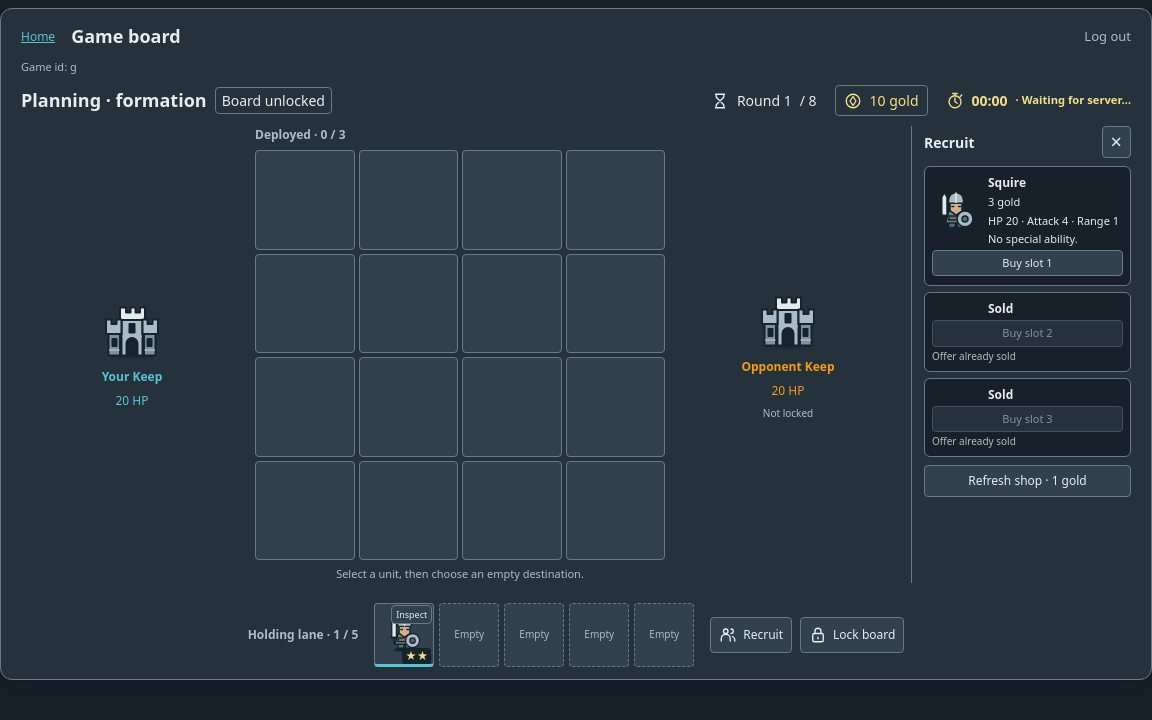
mouse hover opens the popup and selection closes it
The width and height of the screenshot is (1152, 720).
Hover over the element showing "★★ Inspect" at coordinates (404, 634), box [374,602,434,666]
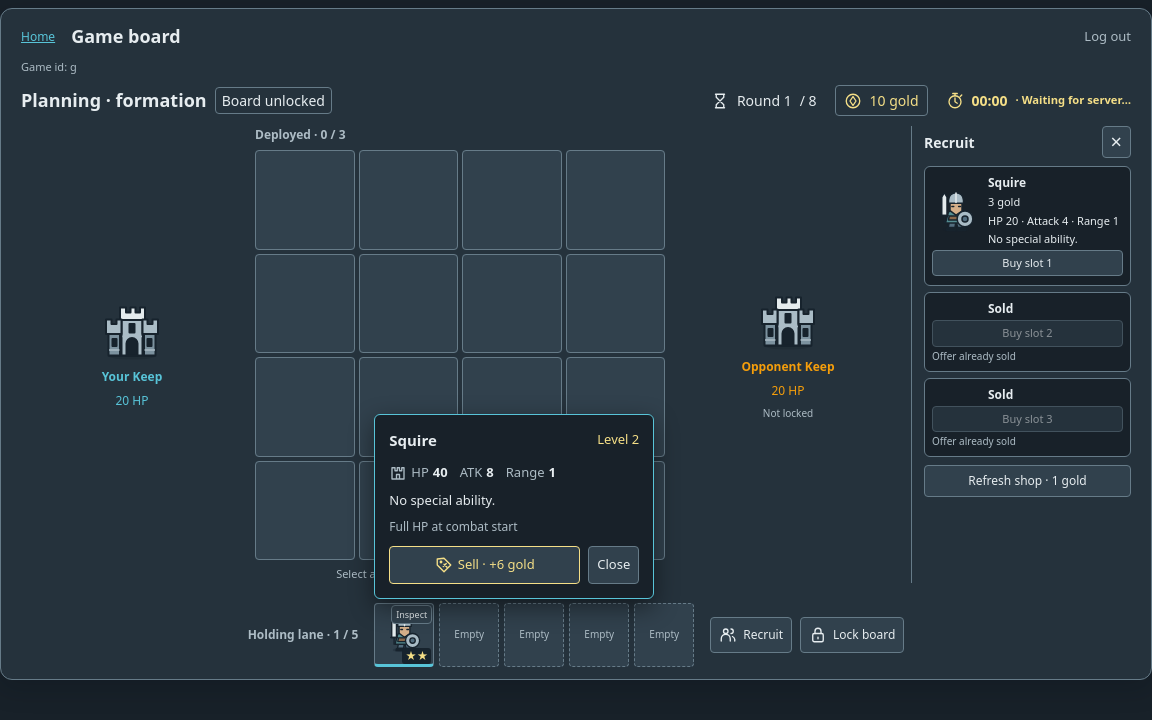
Expected: the dialog is shown, [374,414,654,598]
Click the button named "Select Squire u1" at coordinates (404, 634), box [374,602,434,666]
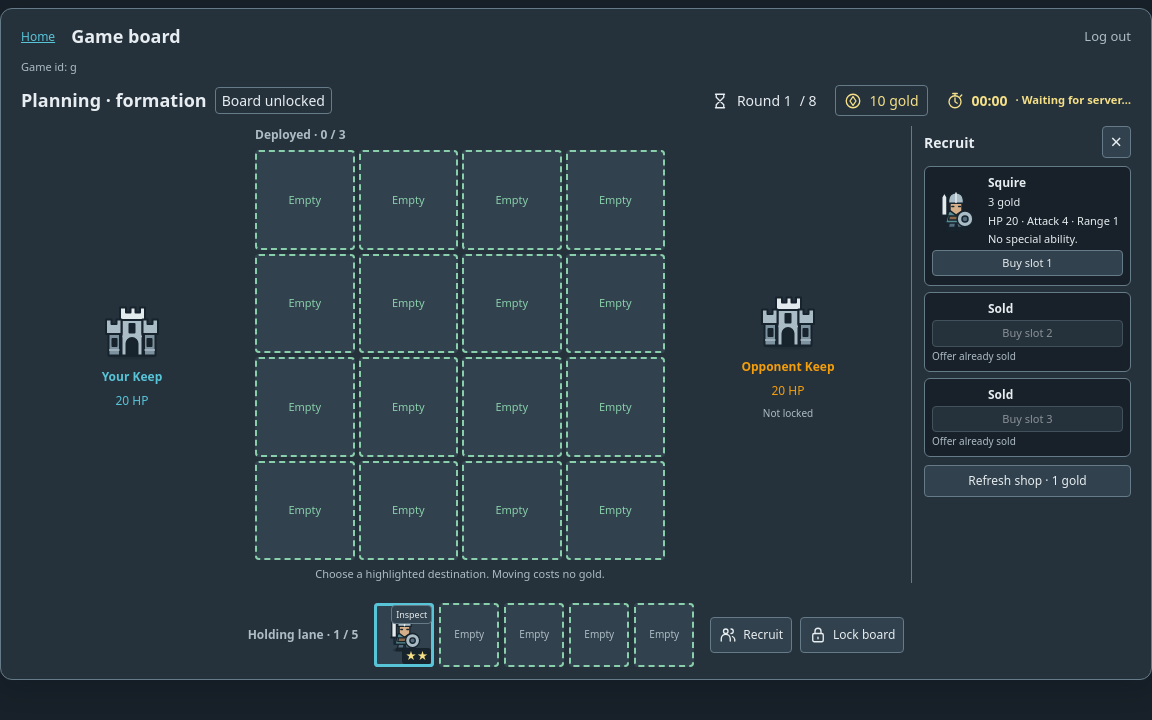
Expected: the dialog is gone
